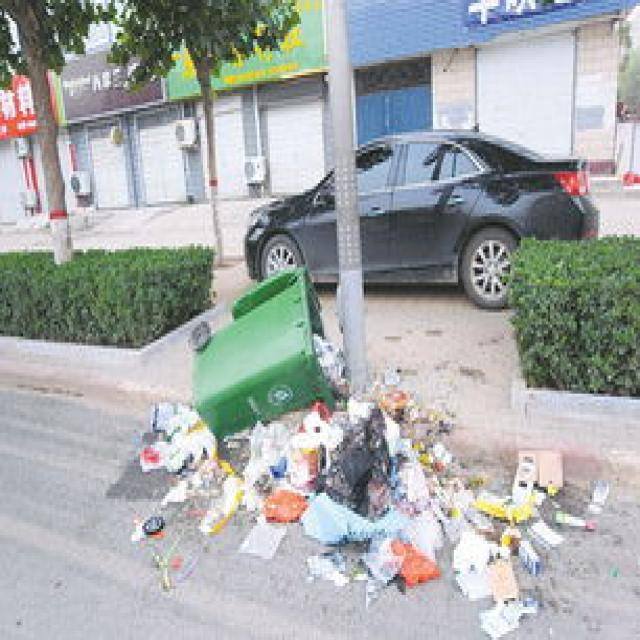garbage: (136, 261, 596, 637)
